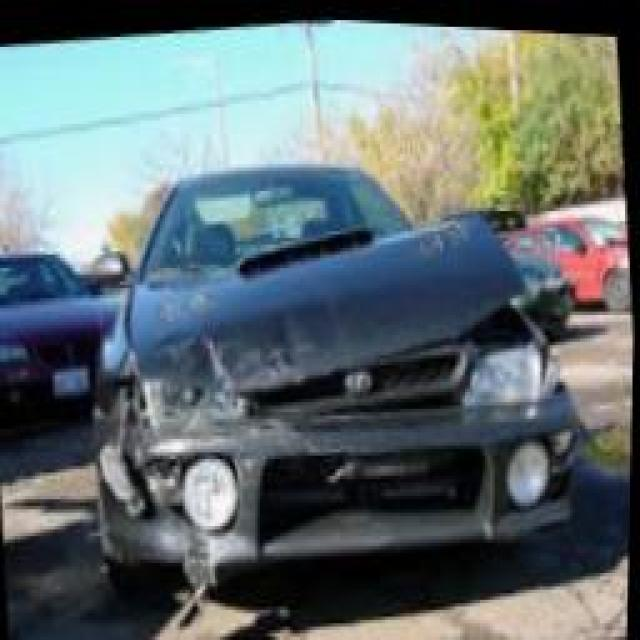Bonnet: (128, 198, 545, 392)
Bumper: (98, 414, 332, 583)
Light: (139, 374, 256, 423)
